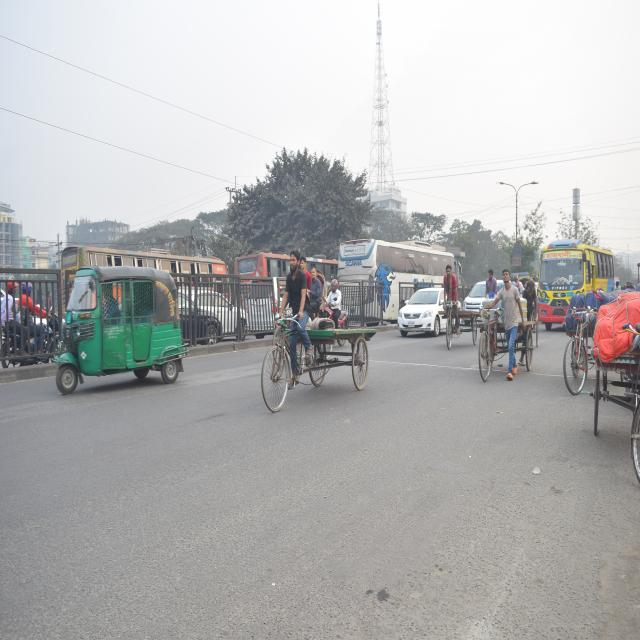bus: (55, 234, 244, 300), (533, 235, 626, 338), (339, 246, 470, 308), (233, 242, 342, 295)
car: (187, 286, 264, 345), (398, 273, 466, 339)
motorbike: (1, 285, 72, 373)
